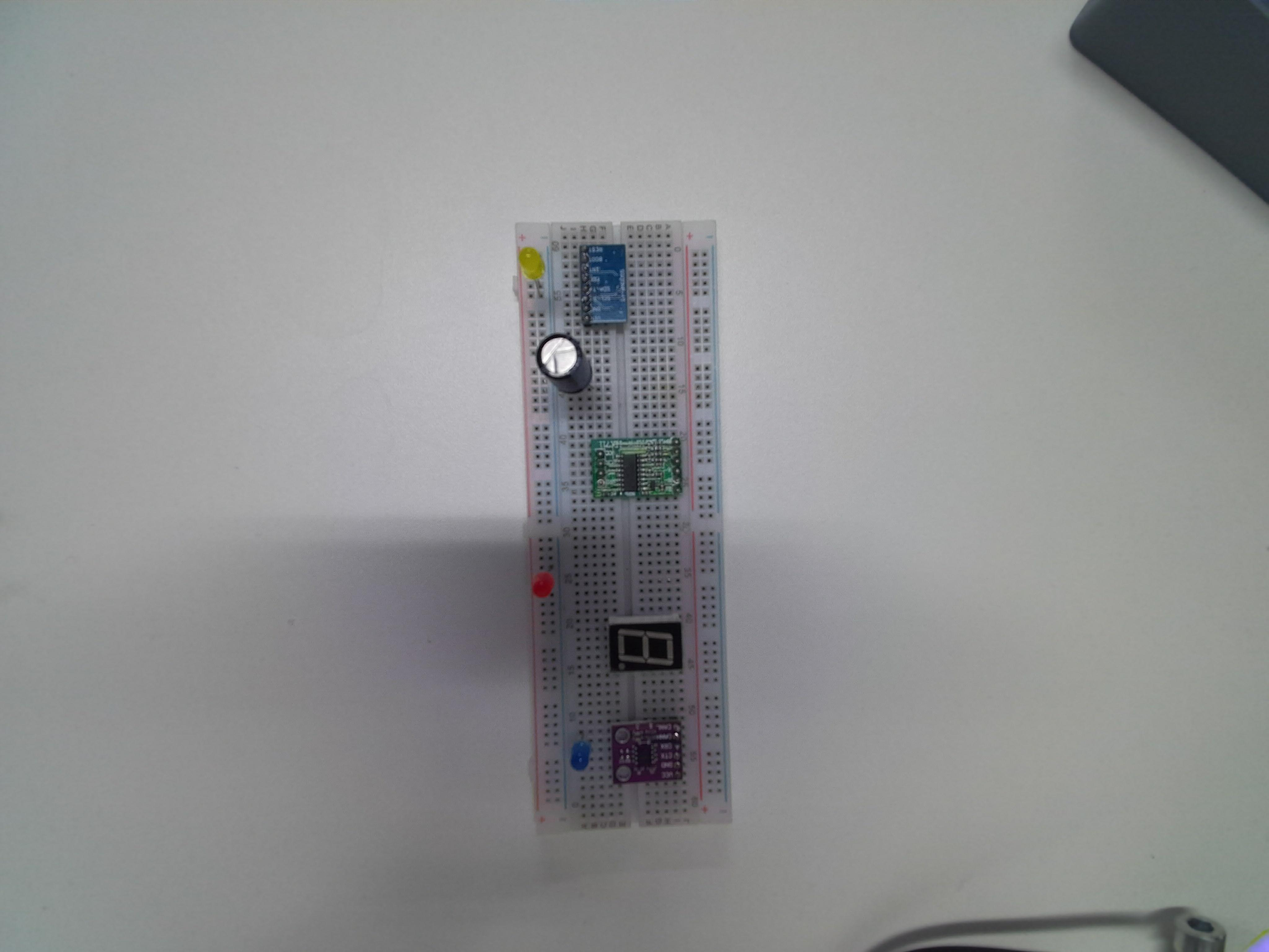base: (514, 219, 725, 834)
blue-board: (576, 240, 630, 329)
blue-led: (567, 733, 595, 777)
capacitor: (531, 332, 597, 403)
digit-board: (604, 609, 688, 675)
green-board: (584, 433, 683, 504)
purple-board: (606, 718, 688, 790)
red-led: (524, 567, 560, 604)
yellow-led: (517, 244, 548, 284)
